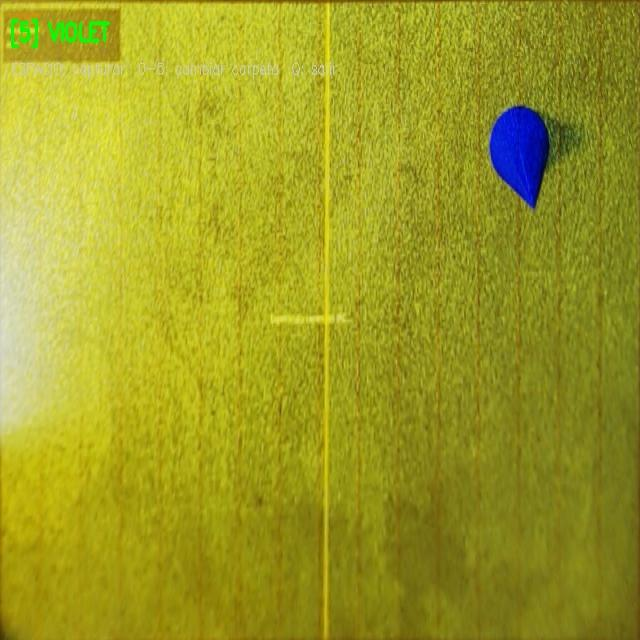violet: (489, 105, 548, 208)
